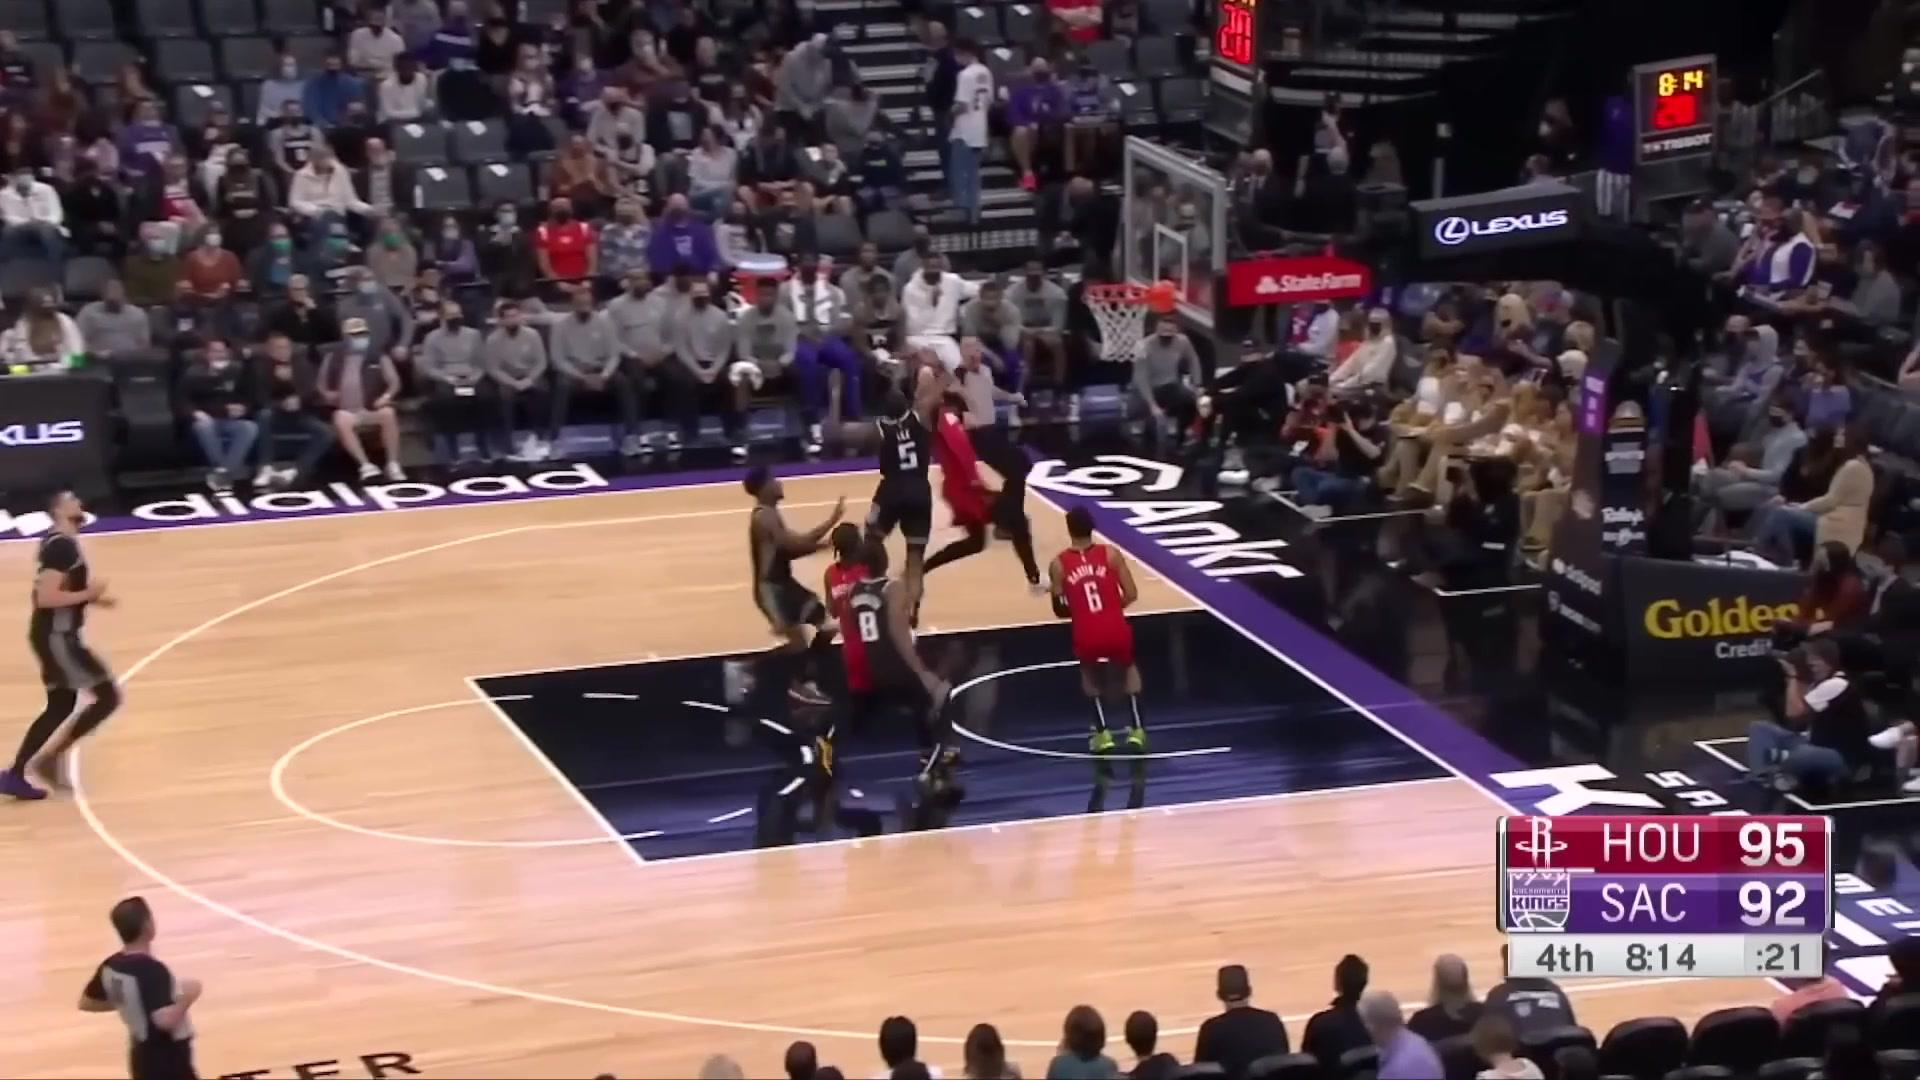foul: (839, 357, 1031, 595)
